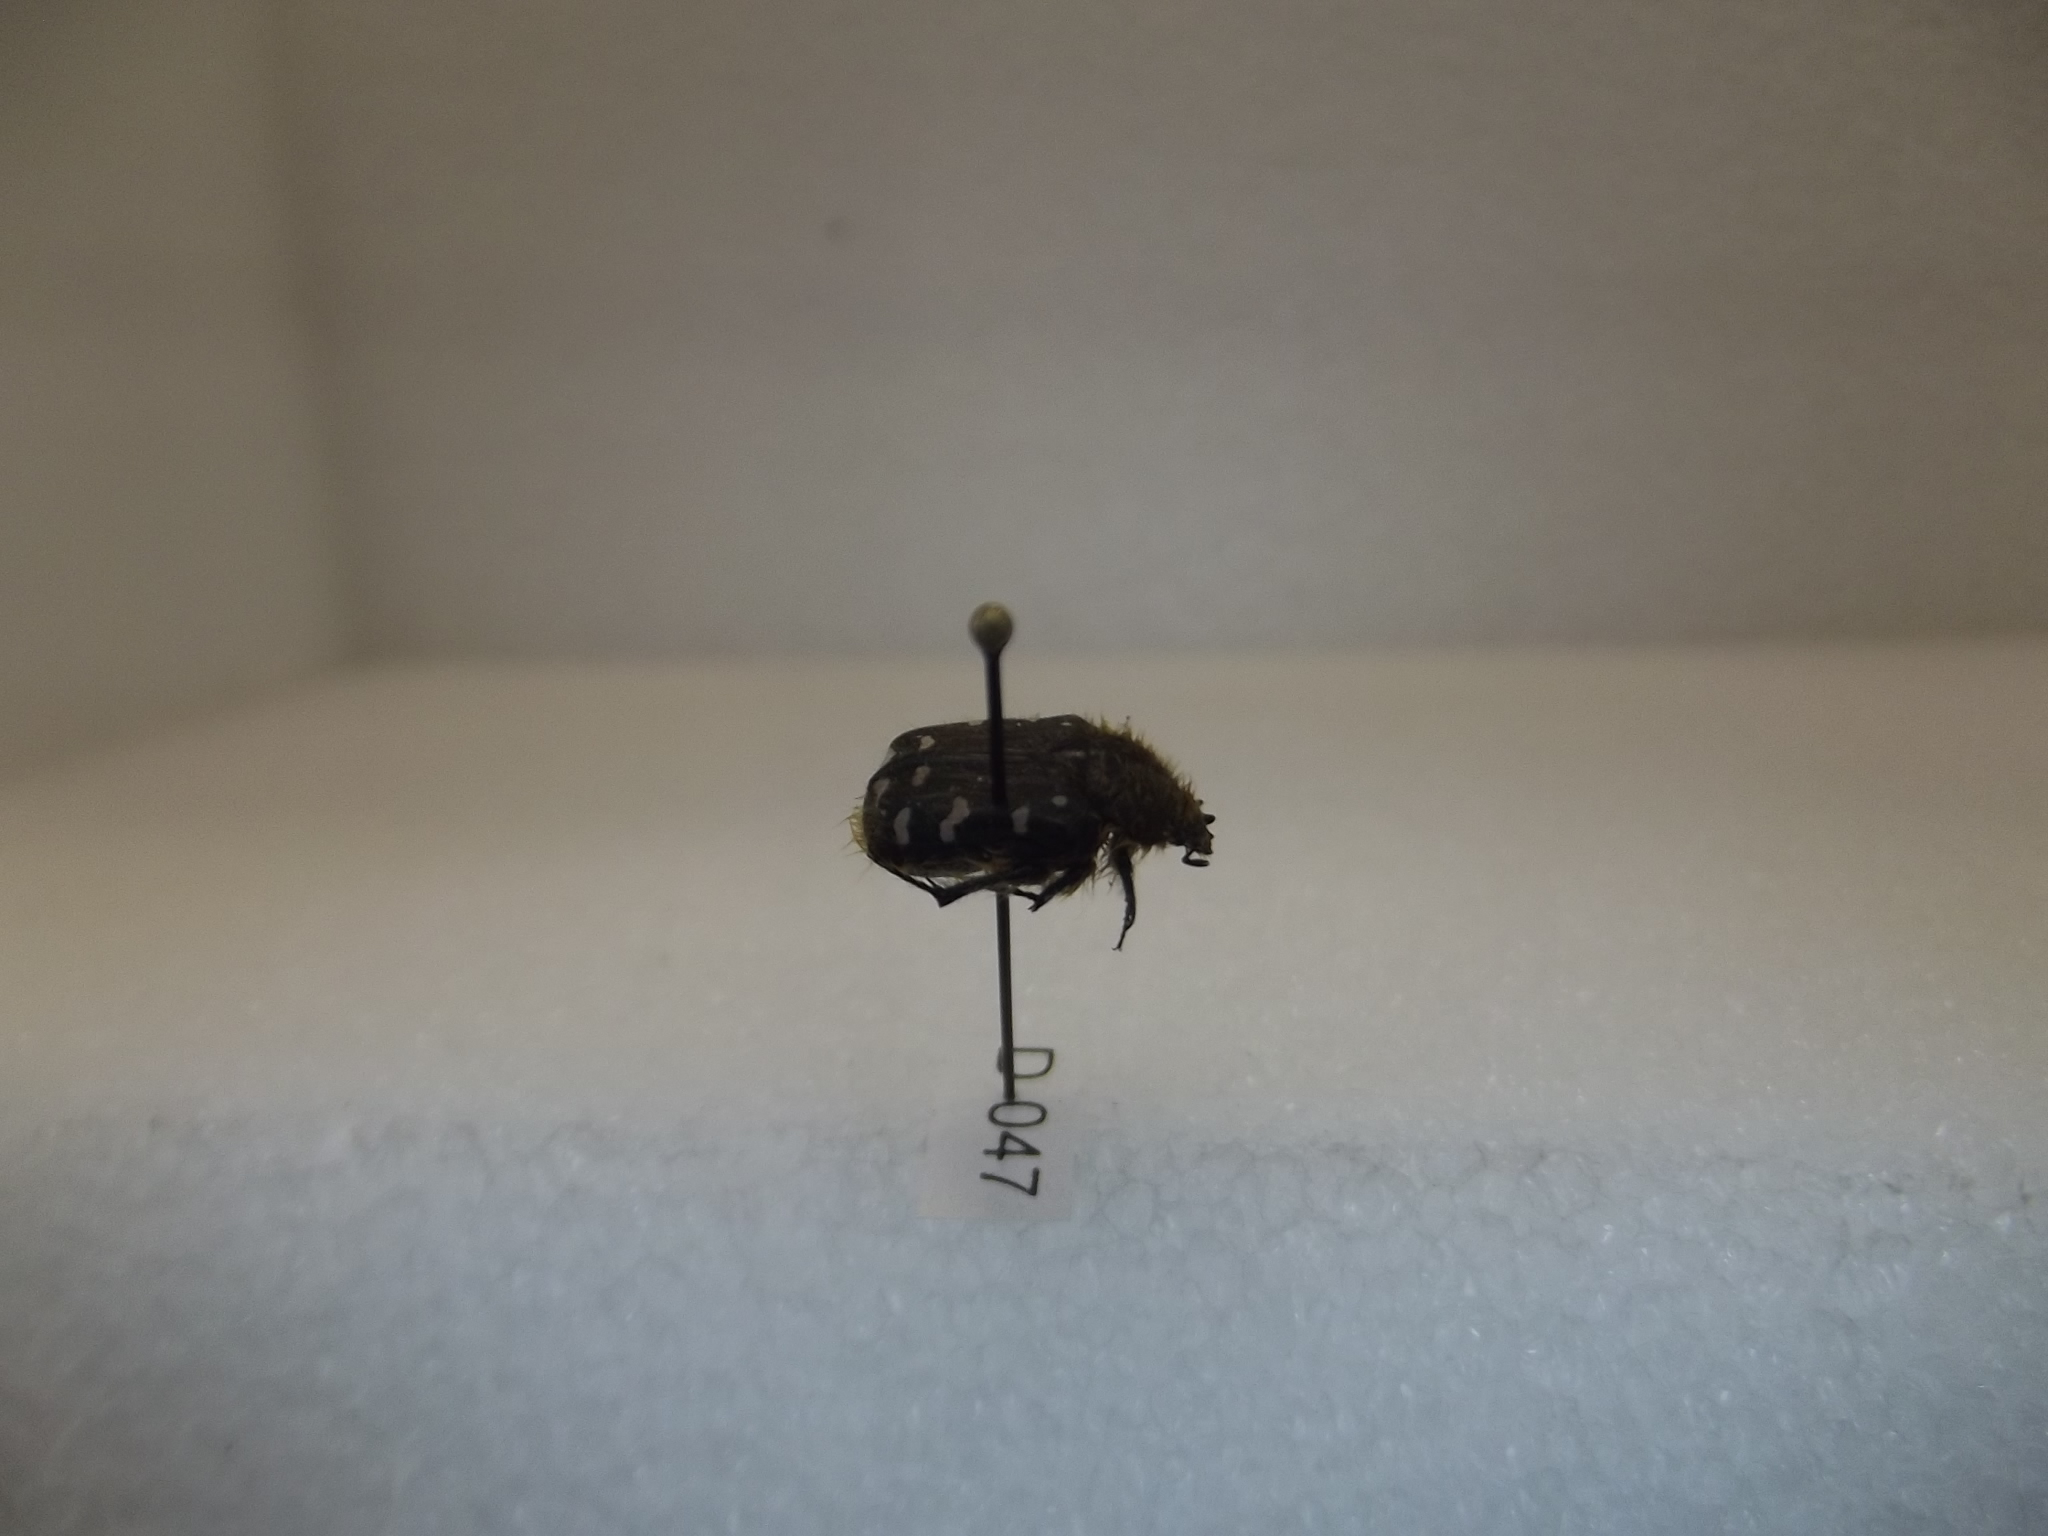Tropinota_hirta: (829, 687, 1234, 957)
